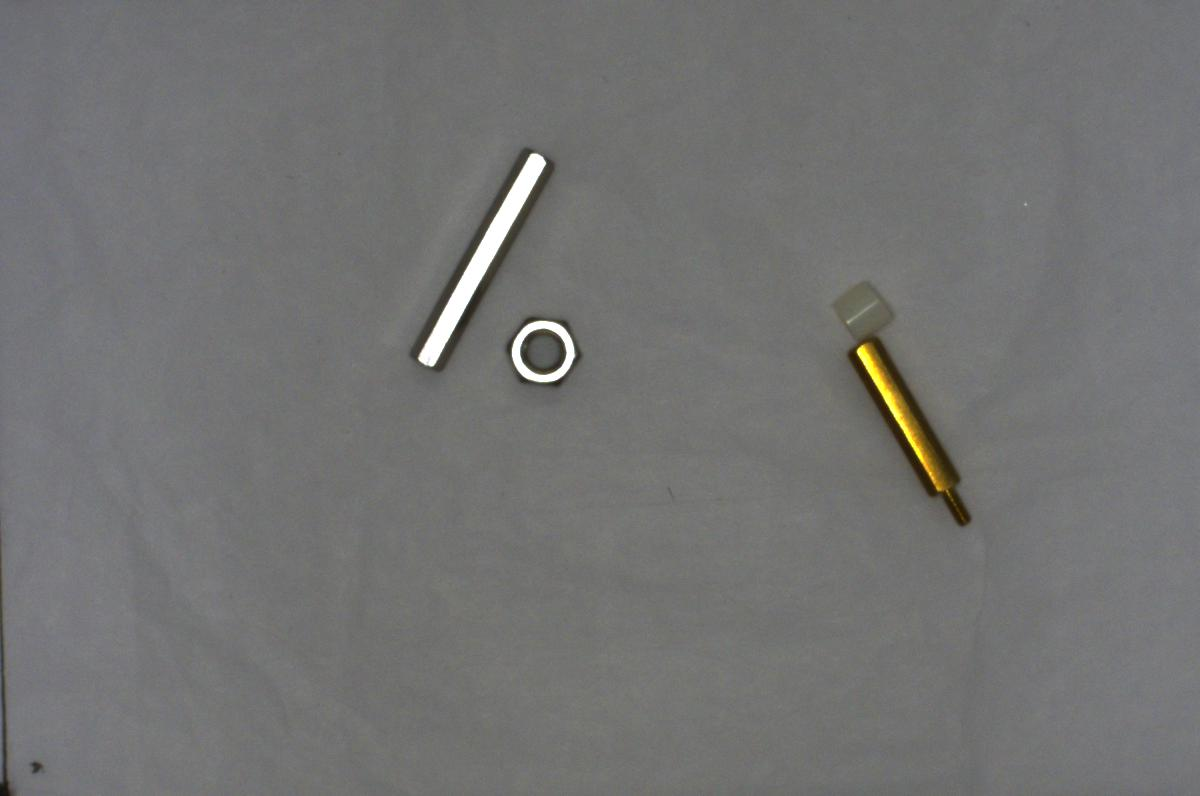Double hexagonal column: (404, 140, 548, 376)
Hexagon nut: (500, 310, 581, 388)
Hexagon pillar: (831, 335, 995, 535)
Plastic cushion pillar: (826, 275, 906, 348)
